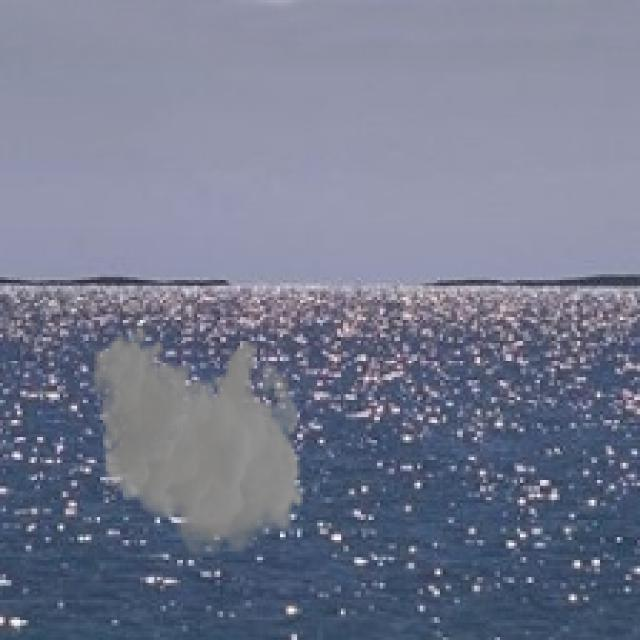smoke: (91, 326, 306, 566)
